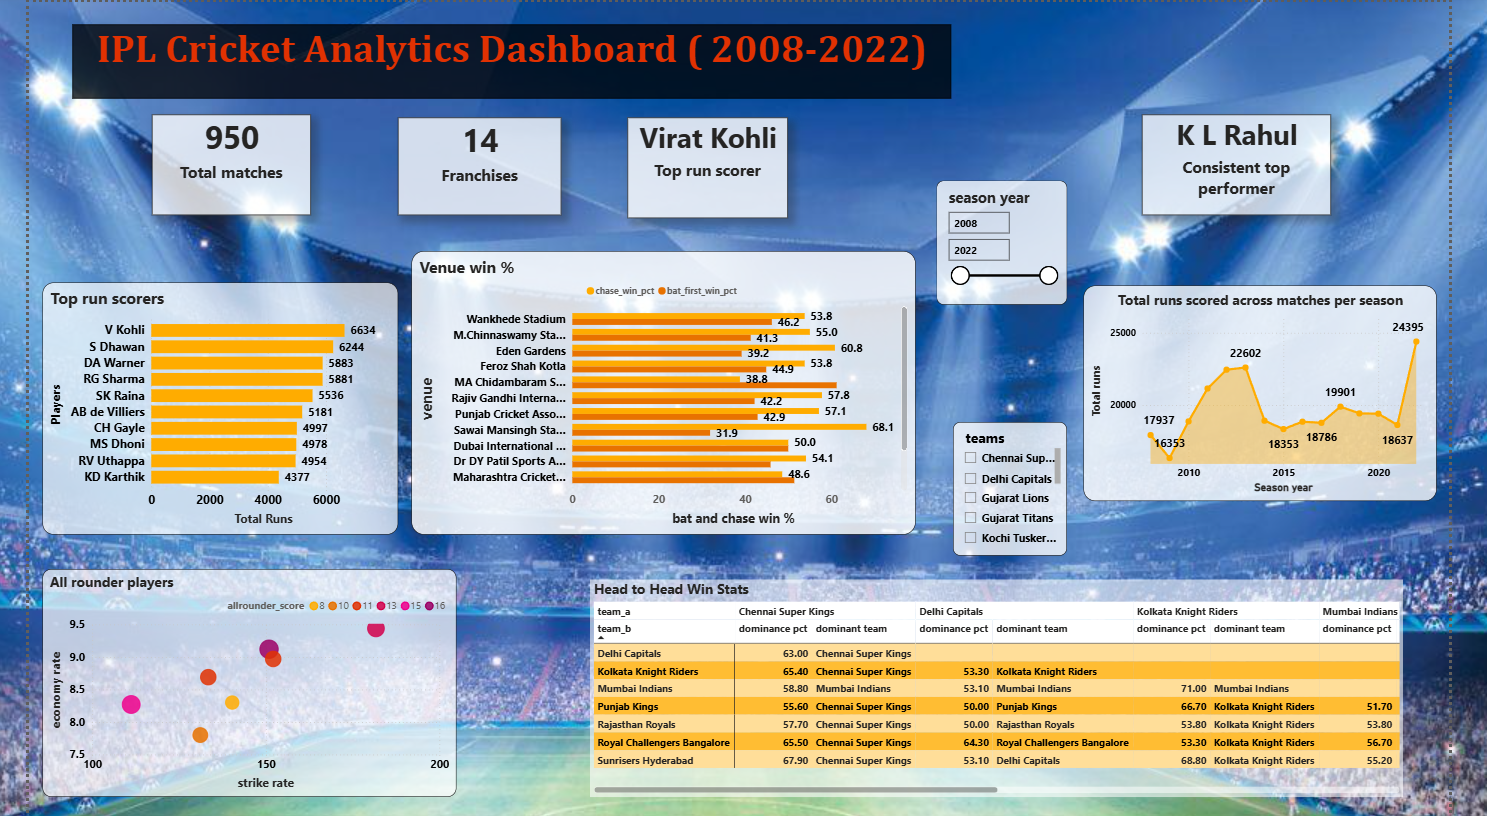

Layout of this report page (visuals, bound fields, positions):
{"tool":"powerbi","page":{"name":"Page 1","canvas":[1920,1200],"ordinal":0},"visuals":[{"type":"clusteredBarChart","title":"Top run scorers","fields":{"Category":["public player_batting_stats.player"],"Y":["Sum(public player_batting_stats.total_runs)"]},"box":[57.9,426.3,478.9,307.9],"z":0},{"type":"lineChart","title":"Total runs scored across matches per season","fields":{"Y":["Sum(public deliveries_clean.total_run)"],"Category":["public matches_clean.season_year"]},"box":[1442.1,500,478.9,289.5],"z":1000},{"type":"clusteredBarChart","title":"Venue win %","fields":{"Category":["public venue_batting_stats.venue"],"Y":["Sum(public venue_batting_stats.chase_win_pct)","Sum(public venue_batting_stats.bat_first_win_pct)"]},"box":[607.9,500,639.5,323.7],"z":2000},{"type":"textbox","title":"IPL Cricket Analytics Dashboard ( 2008-2022)","box":[279.5,0,1202.6,105.1],"z":3000},{"type":"slicer","fields":{"Values":["public matches_clean.season_year"]},"box":[1321.1,289.5,160.5,163.2],"z":4000},{"type":"slicer","fields":{"Values":["public matches_clean.team1"]},"box":[1268.4,555.3,155.3,178.9],"z":5000},{"type":"scatterChart","title":"All rounder players ","fields":{"X":["public allrounder_index.strike_rate"],"Y":["public allrounder_index.economy_rate"],"Series":["public allrounder_index.allrounder_score"],"Size":["Sum(public allrounder_index.allrounder_score)"]},"box":[76.3,844.7,560.5,310.5],"z":6000},{"type":"textbox","title":"950","box":[348.3,224.1,213.8,131],"z":7000},{"type":"textbox","title":"14","box":[637.9,220.7,220.7,131],"z":8000},{"type":"textbox","title":"Virat Kohli","box":[962.1,224.1,217.2,131],"z":9000},{"type":"pivotTable","title":"Head to Head Win Stats","fields":{"Rows":["public head_to_head_stats.team_b"],"Columns":["public head_to_head_stats.team_a"],"Values":["Sum(public head_to_head_stats.dominance_pct)","Min(public head_to_head_stats.dominant_team)"]},"box":[792.1,878.9,855.3,276.3],"z":10000},{"type":"textbox","title":"K L Rahul","box":[1589.5,221.1,281.6,128.9],"z":11000}]}

Visuals, with their boxes on the page's 1920x1200 design canvas (x1, y1, x2, y2). These are canvas units, not pixel positions in the 1487x816 screenshot, which may show the page scaled, cropped or inside an application window:
"Top run scorers" clusteredBarChart: select_region(58, 426, 537, 734)
"Total runs scored across matches per season" lineChart: select_region(1442, 500, 1921, 790)
"Venue win %" clusteredBarChart: select_region(608, 500, 1247, 824)
"IPL Cricket Analytics Dashboard ( 2008-2022)" textbox: select_region(280, 0, 1482, 105)
slicer - public matches_clean.season_year: select_region(1321, 290, 1482, 453)
slicer - public matches_clean.team1: select_region(1268, 555, 1424, 734)
"All rounder players " scatterChart: select_region(76, 845, 637, 1155)
"950" textbox: select_region(348, 224, 562, 355)
"14" textbox: select_region(638, 221, 859, 352)
"Virat Kohli" textbox: select_region(962, 224, 1179, 355)
"Head to Head Win Stats" pivotTable: select_region(792, 879, 1647, 1155)
"K L Rahul" textbox: select_region(1590, 221, 1871, 350)
